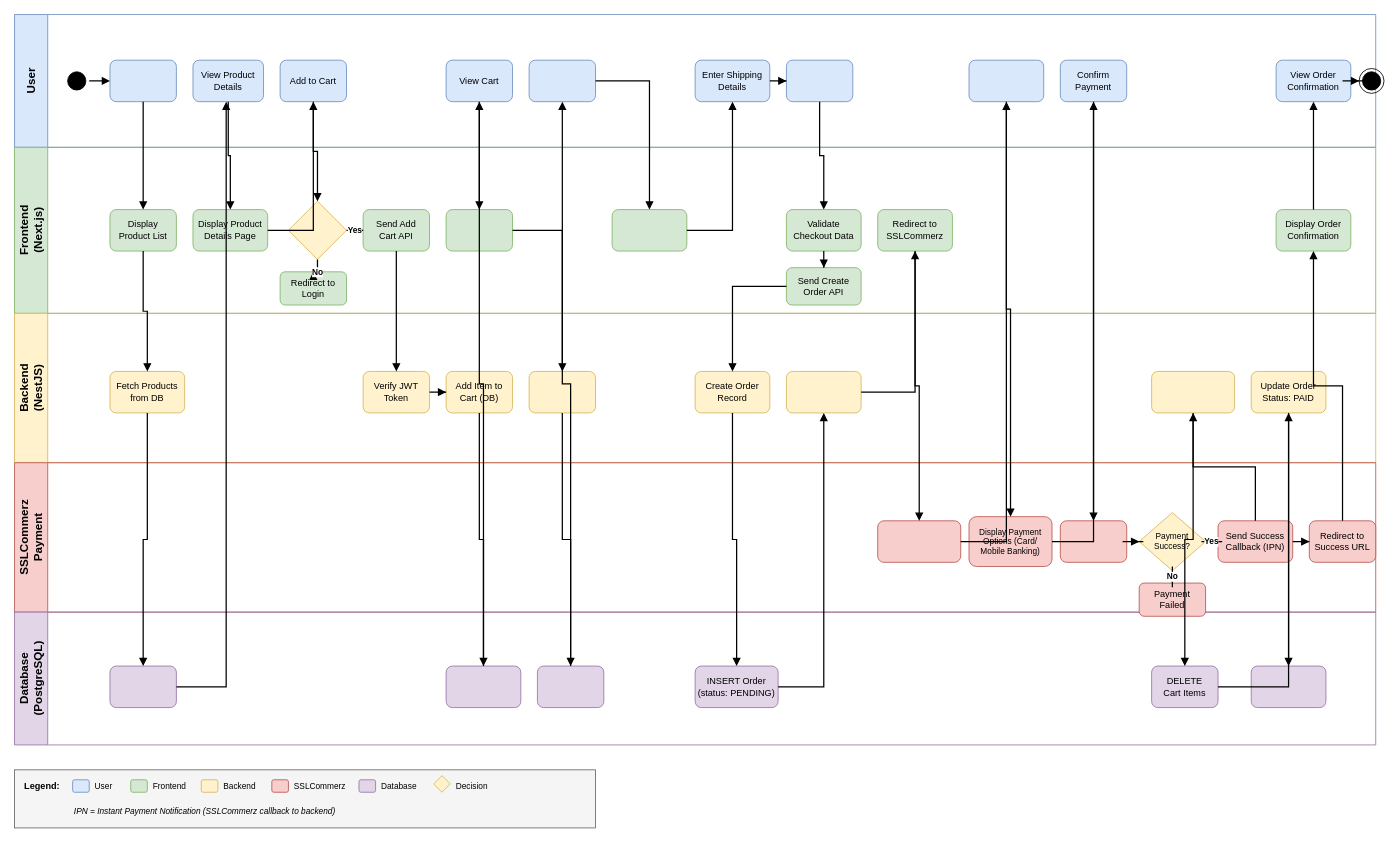
The diagram is 1399 pixels wide and 842 high, and some of its shapes have lost their labels. Here are the shapes that lost their labels. From the top down, the centre of each, then its label:
At point (142, 80): "Browse Products".
At point (562, 80): "Proceed to Checkout".
At point (819, 80): "Place Order".
At point (1006, 80): "Enter Payment Details".
At point (317, 229): "Logged In?".
At point (479, 230): "Display Cart Items".
At point (649, 230): "Display Checkout Form".
At point (562, 392): "Fetch Cart Items".
At point (823, 392): "Initialize SSLCommerz".
At point (1193, 392): "Handle Payment Callback (IPN)".
At point (919, 541): "Display Payment Gateway Page".
At point (1093, 541): "Process Payment".
At point (142, 686): "SELECT Products".
At point (483, 686): "INSERT/UPDATE CartItem".
At point (570, 686): "SELECT Cart Items".
At point (1288, 686): "UPDATE Order (status: PAID)".
